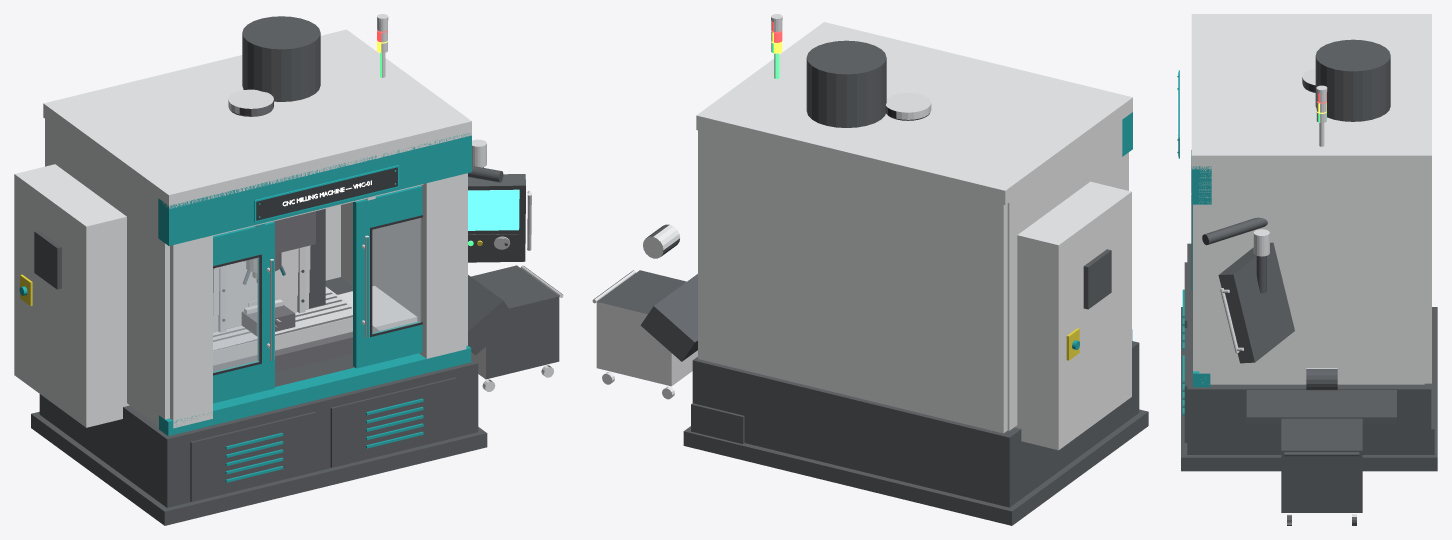
Rendered from vmc_01.glb.
The picture shows the model from 3 angles, left to right: view 1: azimuth 30°, elevation 25°; view 2: azimuth 150°, elevation 25°; view 3: azimuth 270°, elevation 25°; orthographic projection. The views are drawn at different scales.
Parts seen in each view (by area): view 1: VMC_Frame_and_Enclosure, VMC_Door_Right, VMC_Door_Left, VMC_Chip_Conveyor_and_Cart, VMC_Table_Assembly, VMC_Operator_Pendant, VMC_Spindle_Head, Plaque_VMC_01_Plate, Plaque_VMC_01_Trim; view 2: VMC_Frame_and_Enclosure, VMC_Chip_Conveyor_and_Cart, VMC_Spindle_Head; view 3: VMC_Frame_and_Enclosure, VMC_Chip_Conveyor_and_Cart, VMC_Operator_Pendant, VMC_Signal_Beacon.
Boxes of the visible parts, <box> form: VMC_Frame_and_Enclosure: <box>14,16,487,525</box>; VMC_Door_Right: <box>353,185,422,368</box>; VMC_Door_Left: <box>213,221,274,403</box>; VMC_Chip_Conveyor_and_Cart: <box>468,265,563,391</box>; VMC_Table_Assembly: <box>213,286,417,372</box>; VMC_Operator_Pendant: <box>468,139,531,262</box>; VMC_Spindle_Head: <box>228,89,315,284</box>; Plaque_VMC_01_Plate: <box>256,167,397,220</box>; Plaque_VMC_01_Trim: <box>254,165,399,222</box>; VMC_Frame_and_Enclosure: <box>683,22,1148,525</box>; VMC_Chip_Conveyor_and_Cart: <box>592,224,744,443</box>; VMC_Spindle_Head: <box>885,93,931,120</box>; VMC_Frame_and_Enclosure: <box>1181,14,1437,471</box>; VMC_Chip_Conveyor_and_Cart: <box>1209,368,1434,525</box>; VMC_Operator_Pendant: <box>1202,217,1294,363</box>; VMC_Signal_Beacon: <box>1316,85,1327,146</box>.
Bounding box in the file's own units: 4.33 × 3.25 × 2.08.
